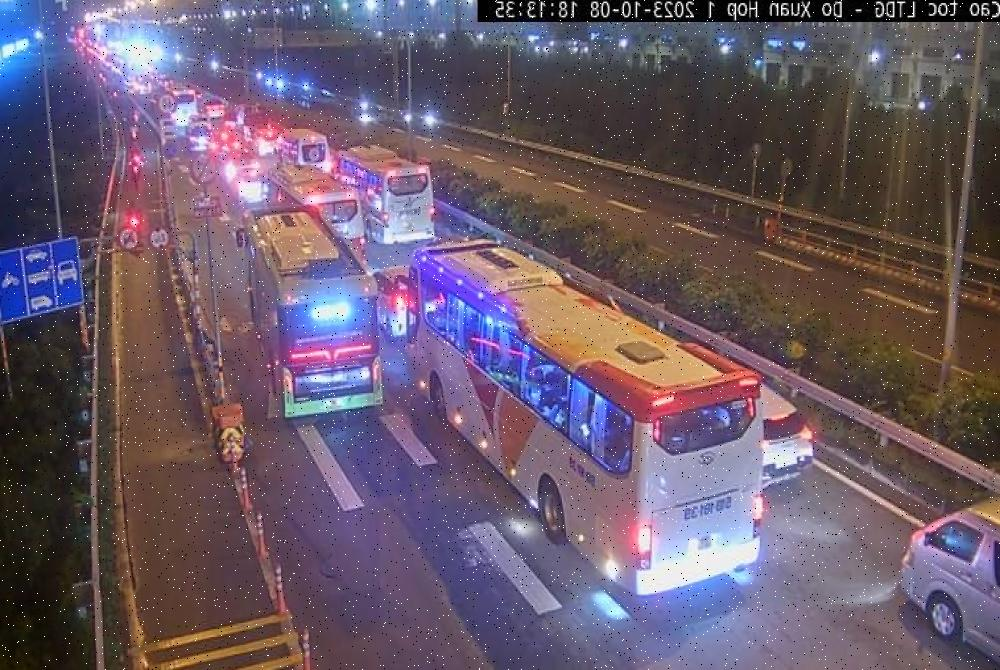bus: (405, 238, 764, 596), (242, 202, 383, 417), (329, 148, 435, 248)
car: (901, 497, 1000, 670), (762, 387, 815, 491)
